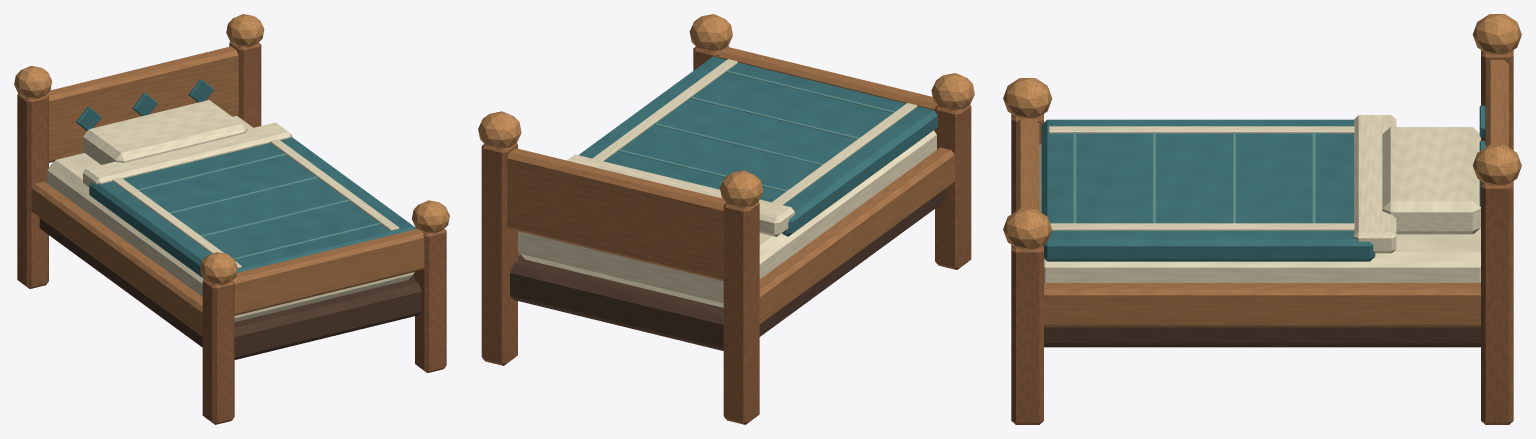
The model's file is bed_linen_quilt.glb.
The picture shows the model from 3 angles, left to right: view 1: azimuth 30°, elevation 25°; view 2: azimuth 150°, elevation 25°; view 3: azimuth 270°, elevation 25°; orthographic projection. The views are drawn at different scales.
Parts seen in each view (by area): view 1: bed_linen_quilt; view 2: bed_linen_quilt; view 3: bed_linen_quilt.
Part boxes in pixels (x1,y1,x2,y2): bed_linen_quilt: (14,14,449,424); bed_linen_quilt: (478,14,974,424); bed_linen_quilt: (1003,14,1521,424).
Size of the model in its own units: 1.52 by 1.29 by 2.21.
1 material, 1 textured.
